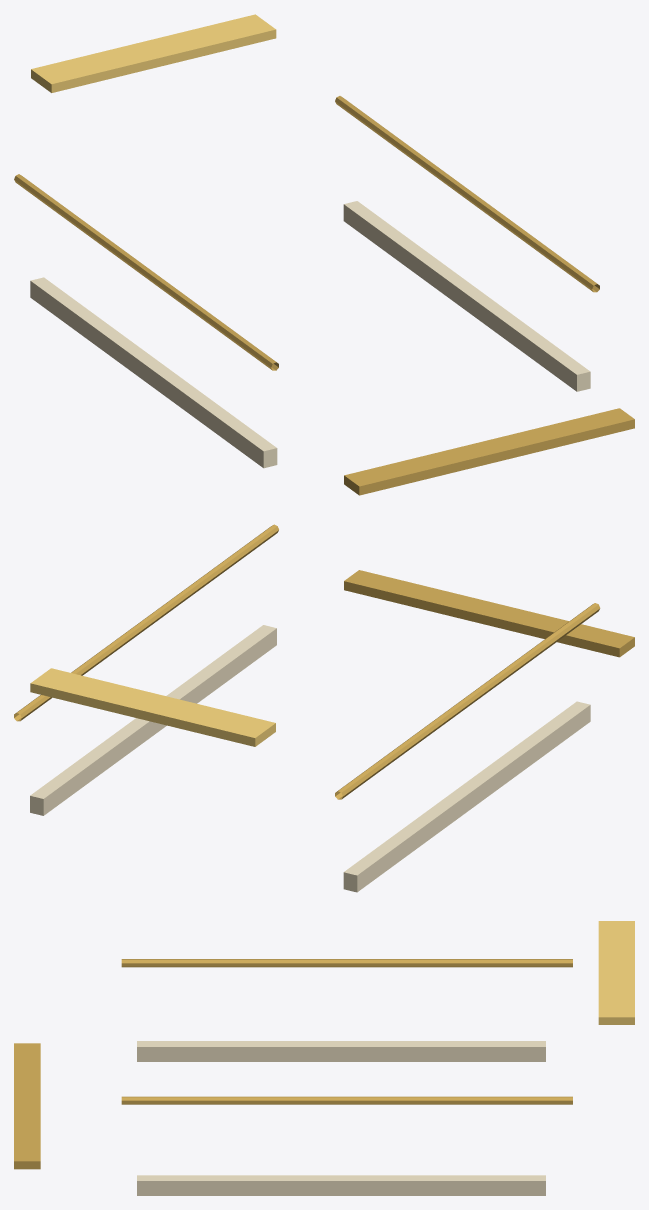
Rendered from yellow_beetle_royal_dress.obj.
3 views of the same model, one above another, from view 1: azimuth 30°, elevation 25°; view 2: azimuth 150°, elevation 25°; view 3: azimuth 270°, elevation 25° (orthographic). The views are drawn at different scales.
Parts seen in each view (by area): view 1: ROYAL_SIDE, ROYAL_BUMPER, ROYAL_WING, ROYAL_TRIM; view 2: ROYAL_SIDE, ROYAL_WING, ROYAL_BUMPER, ROYAL_TRIM; view 3: ROYAL_SIDE, ROYAL_TRIM, ROYAL_WING, ROYAL_BUMPER.
Boxes of the visible parts, x1,y1,x2,y2 form: ROYAL_SIDE: (30,201,590,468); ROYAL_BUMPER: (344,408,634,495); ROYAL_WING: (31,14,276,92); ROYAL_TRIM: (14,96,599,370); ROYAL_SIDE: (30,625,590,892); ROYAL_WING: (30,668,275,746); ROYAL_BUMPER: (344,570,634,657); ROYAL_TRIM: (14,524,600,799); ROYAL_SIDE: (137,1041,545,1195); ROYAL_TRIM: (121,959,572,1104); ROYAL_WING: (598,921,634,1024); ROYAL_BUMPER: (14,1043,40,1169).
Bounding box in the file's own units: 1.74 × 0.9055 × 3.25.
